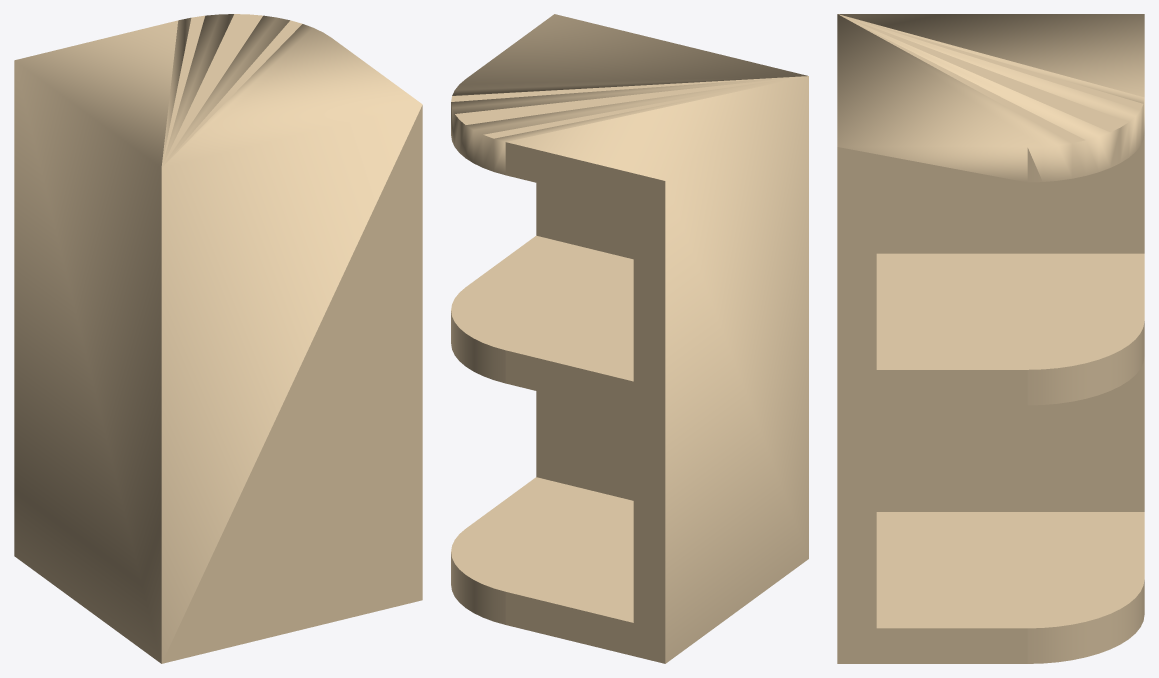
File: kitchenCabinetUpperCorner.glb
3 renders of one model, left to right at view 1: azimuth 30°, elevation 25°; view 2: azimuth 150°, elevation 25°; view 3: azimuth 270°, elevation 25°, orthographic. The views are drawn at different scales.
Parts seen in each view (by area): view 1: kitchenCabinetUpperCorner; view 2: kitchenCabinetUpperCorner; view 3: kitchenCabinetUpperCorner.
Boxes of the visible parts, bbox=[...] form: kitchenCabinetUpperCorner: bbox=[14, 14, 422, 663]; kitchenCabinetUpperCorner: bbox=[451, 14, 808, 663]; kitchenCabinetUpperCorner: bbox=[837, 14, 1144, 663].
Size of the model in its own units: 2.15 by 3.9 by 2.1.
